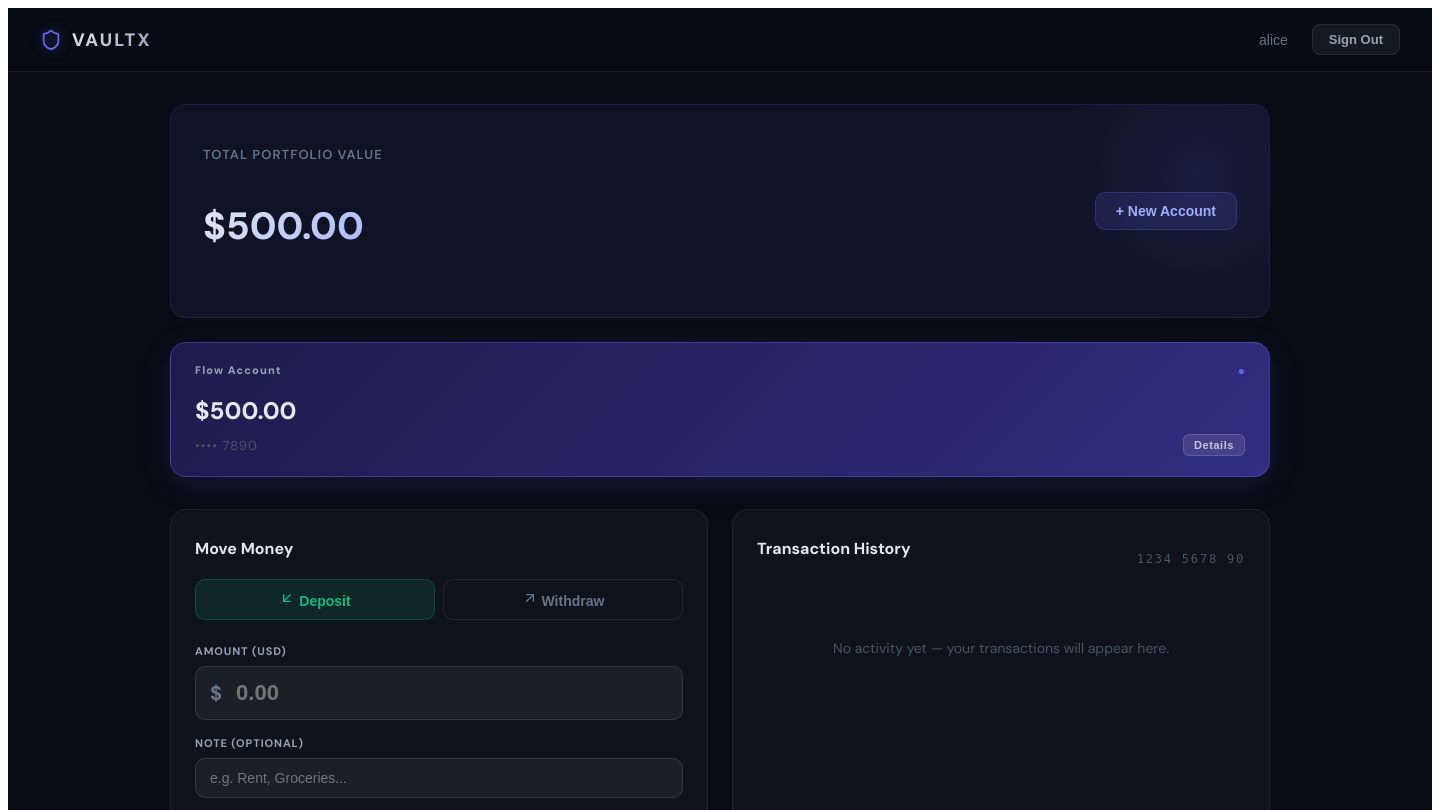
Test: Dashboard — transaction form › successful deposit shows success message
Type "100" into the number field with placeholder "0.00" at (452, 693), box x1=222 y1=667 x2=682 y2=719
(page scrolled)
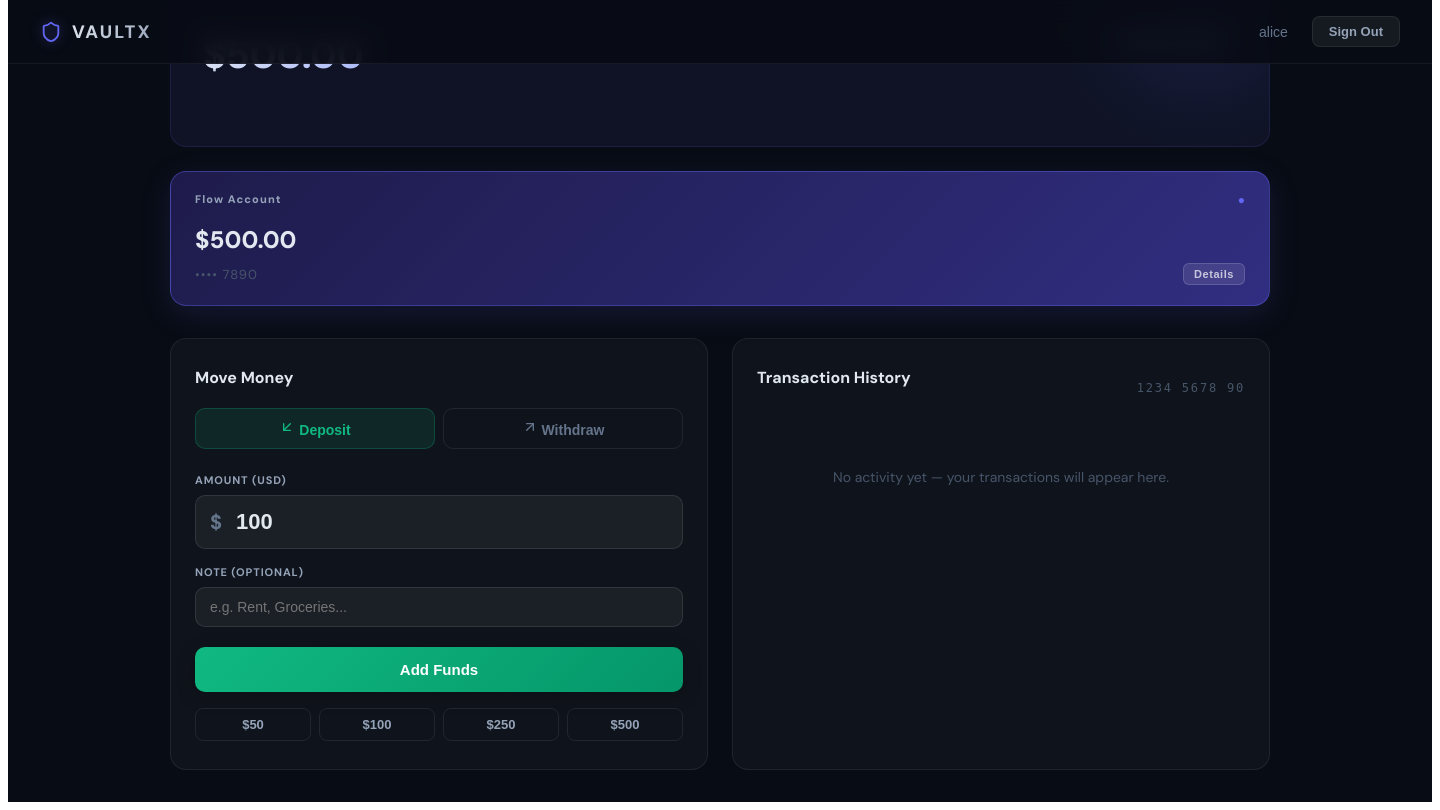
Submit the form, box x1=195 y1=473 x2=683 y2=692
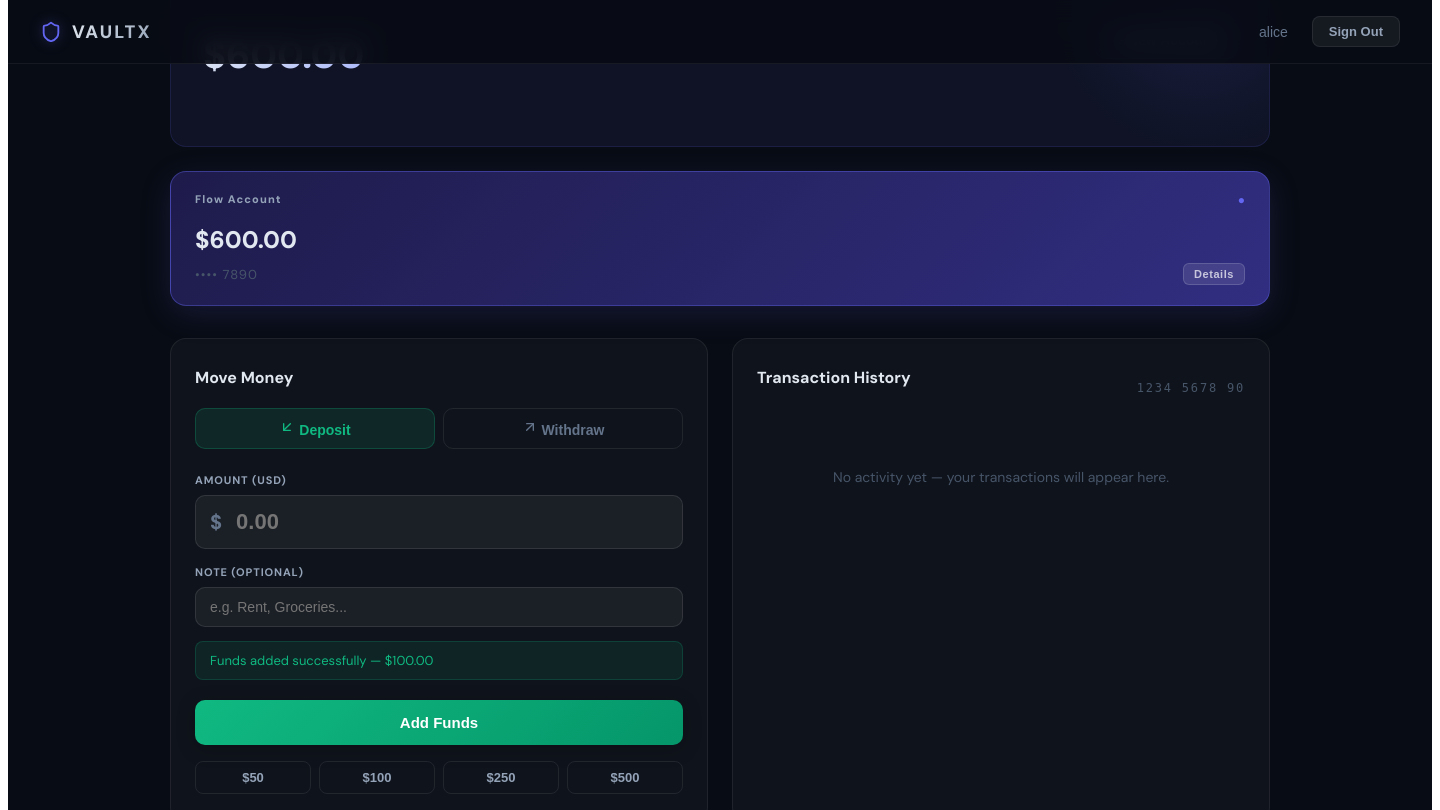
Result: the text "Funds added successfully — $100.00" is shown at x1=195 y1=641 x2=683 y2=680
